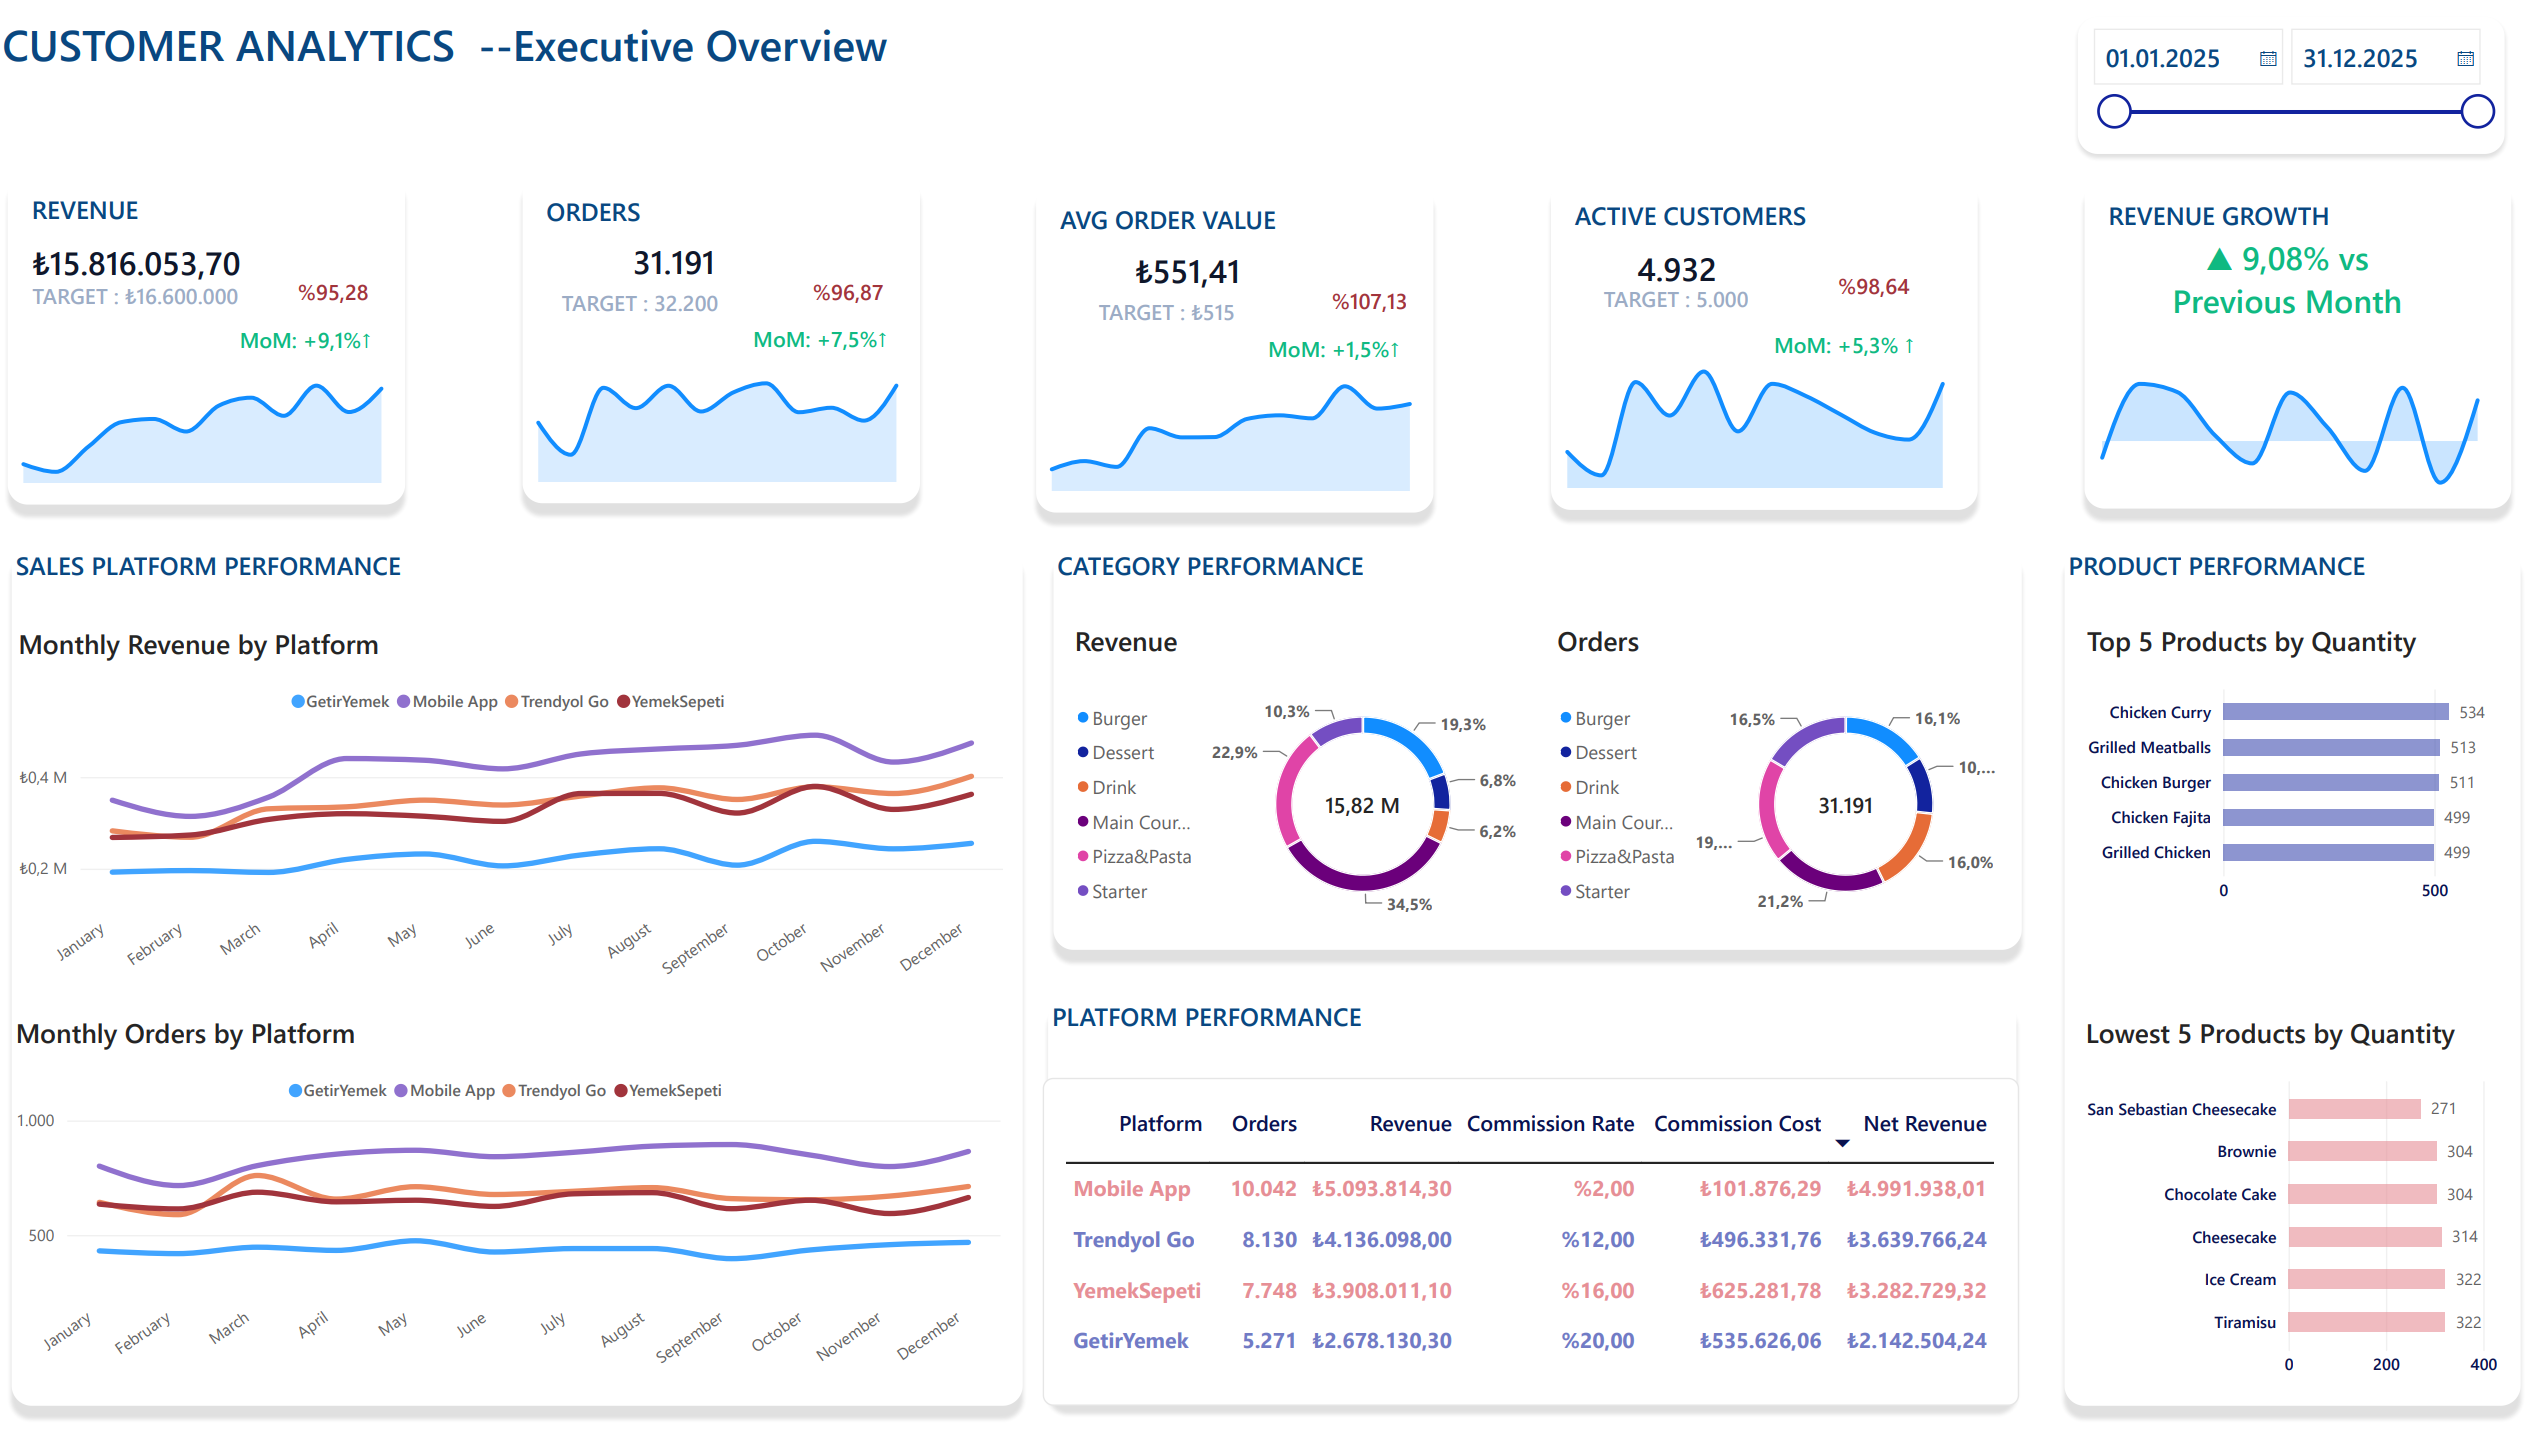

The dashboard page shown, as its layout file describes it:
{"tool":"powerbi","page":{"name":"Executvive","canvas":[1920,1080],"ordinal":0},"visuals":[{"type":"card","title":"REVENUE","fields":{"Values":["Date.sum_renevue"]},"box":[13.6,128.3,298.2,250],"z":0,"group":"g7"},{"type":"card","title":"ORDERS","fields":{"Values":["Date.sum_renevue"]},"box":[399.1,128.8,298.2,248.2],"z":0,"group":"g6"},{"type":"card","title":"ACTIVE CUSTOMERS","fields":{"Values":["Date.sum_renevue"]},"box":[1171.6,131.9,320,250],"z":0,"group":"g4"},{"type":"card","title":"REVENUE GROWTH","fields":{"Values":["Date.sum_renevue"]},"box":[1571.1,131.9,320,249.1],"z":0,"group":"g3"},{"type":"card","title":"AVG ORDER VALUE","fields":{"Values":["Date.sum_renevue"]},"box":[784.7,134,298.2,249.5],"z":0,"group":"g5"},{"type":"textbox","box":[16.9,408,757.7,646],"z":0,"group":"g2"},{"type":"textbox","box":[798,408,726,304],"z":0,"group":"g8"},{"type":"group","id":"g1","title":"Product","box":[1556,408,342,646],"z":0},{"type":"textbox","box":[1556,408,342,646],"z":0,"group":"g1"},{"type":"textbox","box":[794,746,726,304],"z":0,"group":"g9"},{"type":"stackedAreaChart","fields":{"Category":["Date.Date.Varyasyon.Tarih Hiyerarşisi.Ay"],"Y":["Query.Revenue MoM %"]},"box":[1556.8,240.3,336,141],"z":1000,"group":"g3"},{"type":"stackedAreaChart","fields":{"Category":["Date.Date.Varyasyon.Tarih Hiyerarşisi.Ay"],"Y":["Query.total order"]},"box":[385.5,253.1,320.1,123.9],"z":1000,"group":"g6"},{"type":"stackedAreaChart","fields":{"Category":["Date.Date.Varyasyon.Tarih Hiyerarşisi.Ay"],"Y":["Query.total active costumer"]},"box":[1157.5,253.2,334,128],"z":1000,"group":"g4"},{"type":"stackedAreaChart","fields":{"Category":["Date.Date.Varyasyon.Tarih Hiyerarşisi.Ay"],"Y":["Query.Total Revenue"]},"box":[0,253.4,320,124.8],"z":1000,"group":"g7"},{"type":"stackedAreaChart","fields":{"Category":["Date.Date.Varyasyon.Tarih Hiyerarşisi.Ay"],"Y":["Query.Average Order Value"]},"box":[771.1,258.9,320,124.5],"z":1000,"group":"g5"},{"type":"group","id":"g2","title":"Sales Platform","box":[4,408,772,648],"z":1000},{"type":"donutChart","title":"Revenue","fields":{"Category":["public category.category_name"],"Y":["public category.Category Revenue"]},"box":[798,452,364,260],"z":1000,"group":"g8"},{"type":"clusteredBarChart","title":"Top 5 Products by Quantity","fields":{"Category":["public product.product_name"],"Y":["CountNonNull(public sales_items.product_id)"]},"box":[1557,452,341,244],"z":1000,"group":"g1"},{"type":"card","title":"OVERALL PERFORMANCE","fields":{"Values":["Date.sum_renevue"]},"box":[13.6,128.3,192.9,142],"z":2000,"group":"g7"},{"type":"card","title":"OVERALL PERFORMANCE","fields":{"Values":["Query.total order"]},"box":[410.2,128.3,205.4,140.6],"z":2000,"group":"g6"},{"type":"card","title":"OVERALL PERFORMANCE","fields":{"Values":["Query.total costumer"]},"box":[1171.6,131.9,189.3,142],"z":2000,"group":"g4"},{"type":"group","id":"g3","title":"Growth","box":[1556.8,131.9,337.1,250.8],"z":2000},{"type":"card","title":"OVERALL PERFORMANCE","fields":{"Values":["Query.Average Order Value"]},"box":[795.8,133.5,205.3,141.2],"z":2000,"group":"g5"},{"type":"card","title":"OVERALL PERFORMANCE","fields":{"Values":["Date.Revenue Growth Label"]},"box":[1604.1,140.2,238.3,133.9],"z":2000,"group":"g3"},{"type":"donutChart","title":"Orders","fields":{"Category":["public category.category_name"],"Y":["public category.Category Total Orders"]},"box":[1160,452,364,260],"z":2000,"group":"g8"},{"type":"lineChart","title":"Monthly Orders by Platform","fields":{"Category":["Date.Month Name EN"],"Series":["public sales_platform.platform_name"],"Y":["Query.total order"]},"box":[4,746,770,310],"z":2000,"group":"g2"},{"type":"clusteredBarChart","title":"Lowest 5 Products by Quantity","fields":{"Category":["public product.product_name"],"Y":["CountNonNull(public sales_items.product_id)"]},"box":[1556,746,341,306],"z":2000,"group":"g1"},{"type":"group","id":"g4","title":"Costumer","box":[1157.5,131.9,333.8,250.8],"z":3000},{"type":"card","title":"TARGET","fields":{"Values":["Query.costumer Achievement"]},"box":[1363.4,189.8,100.7,54.7],"z":3000,"group":"g4"},{"type":"card","title":"TARGET","fields":{"Values":["Query.Revenue Target Achievement %"]},"box":[206.6,194.6,102.6,54.7],"z":3000,"group":"g7"},{"type":"card","title":"TARGET","fields":{"Values":["Query.Order Achievement"]},"box":[592.1,194.7,102.6,54.3],"z":3000,"group":"g6"},{"type":"card","title":"TARGET","fields":{"Values":["Query.avg value Achievement"]},"box":[984.4,200.5,102.6,54.6],"z":3000,"group":"g5"},{"type":"group","id":"g5","title":"Order Value","box":[771.1,133.5,320.8,249.2],"z":4000},{"type":"card","title":"TARGET","fields":{"Values":["Query.Order MoM Label"]},"box":[548.6,224.6,148.8,65.9],"z":4000,"group":"g6"},{"type":"card","title":"TARGET","fields":{"Values":["Query.Revenue MoM Label"]},"box":[163.1,224.7,148.8,66.4],"z":4000,"group":"g7"},{"type":"card","title":"TARGET","fields":{"Values":["Query.Costumer MoM Label"]},"box":[1318.2,228.3,146,66.4],"z":4000,"group":"g4"},{"type":"card","title":"TARGET","fields":{"Values":["Query.Avg Order MoM Label"]},"box":[934.2,230.2,148.8,66.2],"z":4000,"group":"g5"},{"type":"lineChart","title":"Monthly Revenue by Platform","fields":{"Category":["Date.Month Name EN"],"Series":["public sales_platform.platform_name"],"Y":["Query.Total Revenue"]},"box":[6,454,770,310],"z":4000,"group":"g2"},{"type":"group","id":"g6","title":"Order","box":[385.5,128.3,320,250],"z":5000},{"type":"card","title":"TARGET","fields":{"Values":["Query.Revenue Target Label"]},"box":[11.2,179.1,197.7,91.1],"z":5000,"group":"g7"},{"type":"card","title":"TARGET","fields":{"Values":["Query.total costumer"]},"box":[1168.8,181.3,194,91.1],"z":5000,"group":"g4"},{"type":"card","title":"TARGET","fields":{"Values":["Query.Order Target Label"]},"box":[388.2,182.2,198.3,94.8],"z":5000,"group":"g6"},{"type":"card","title":"TARGET","fields":{"Values":["Query.avg Order Target Label"]},"box":[784,188.9,198.3,95.3],"z":5000,"group":"g5"},{"type":"group","id":"g7","title":"Revenue","box":[0,128.3,320,250],"z":6000},{"type":"group","id":"g8","title":"Category Performance","box":[798,408,726,302],"z":7000},{"type":"slicer","title":"Date","fields":{"Values":["Date.Date"]},"box":[1566,12,320,103.3],"z":8000},{"type":"tableEx","fields":{"Values":["public sales_platform.platform_name","Query.total order","Query.Total Revenue","Sum(public sales_platform.commission_rate)","Query.commision_value","Query.net_revenue"]},"box":[790,808,732,246],"z":8002,"group":"g9"},{"type":"textbox","box":[10,10,802,54],"z":9000},{"type":"group","id":"g9","title":"Category Performance","box":[790,746,732,308],"z":10000}]}

Visuals, with their boxes in screenshot pixels (x1, y1, x2, y2), scaled from the page's 1920x1080 canvas onto the 2540x1440 screenshot:
"REVENUE" card: 18:171:412:504
"ORDERS" card: 528:172:922:503
"ACTIVE CUSTOMERS" card: 1550:176:1973:509
"REVENUE GROWTH" card: 2078:176:2502:508
"AVG ORDER VALUE" card: 1038:179:1433:511
textbox: 22:544:1025:1405
textbox: 1056:544:2016:949
"Product" group: 2058:544:2511:1405
textbox: 2058:544:2511:1405
textbox: 1050:995:2011:1400
stackedAreaChart - Date.Date.Varyasyon.Tarih Hiyerarşisi.Ay x Query.Revenue MoM %: 2060:320:2504:508
stackedAreaChart - Date.Date.Varyasyon.Tarih Hiyerarşisi.Ay x Query.total order: 510:337:933:503
stackedAreaChart - Date.Date.Varyasyon.Tarih Hiyerarşisi.Ay x Query.total active costumer: 1531:338:1973:508
stackedAreaChart - Date.Date.Varyasyon.Tarih Hiyerarşisi.Ay x Query.Total Revenue: 0:338:423:504
stackedAreaChart - Date.Date.Varyasyon.Tarih Hiyerarşisi.Ay x Query.Average Order Value: 1020:345:1443:511
"Sales Platform" group: 5:544:1027:1408
"Revenue" donutChart: 1056:603:1537:949
"Top 5 Products by Quantity" clusteredBarChart: 2060:603:2511:928
"OVERALL PERFORMANCE" card: 18:171:273:360
"OVERALL PERFORMANCE" card: 543:171:814:359
"OVERALL PERFORMANCE" card: 1550:176:1800:365
"Growth" group: 2060:176:2505:510
"OVERALL PERFORMANCE" card: 1053:178:1324:366
"OVERALL PERFORMANCE" card: 2122:187:2437:365
"Orders" donutChart: 1535:603:2016:949
"Monthly Orders by Platform" lineChart: 5:995:1024:1408
"Lowest 5 Products by Quantity" clusteredBarChart: 2058:995:2510:1403
"Costumer" group: 1531:176:1973:510
"TARGET" card: 1804:253:1937:326
"TARGET" card: 273:259:409:332
"TARGET" card: 783:260:919:332
"TARGET" card: 1302:267:1438:340
"Order Value" group: 1020:178:1444:510
"TARGET" card: 726:299:923:387
"TARGET" card: 216:300:413:388
"TARGET" card: 1744:304:1937:393
"TARGET" card: 1236:307:1433:395
"Monthly Revenue by Platform" lineChart: 8:605:1027:1019
"Order" group: 510:171:933:504
"TARGET" card: 15:239:276:360
"TARGET" card: 1546:242:1803:363
"TARGET" card: 514:243:776:369
"TARGET" card: 1037:252:1300:379
"Revenue" group: 0:171:423:504
"Category Performance" group: 1056:544:2016:947
"Date" slicer: 2072:16:2495:154
tableEx - public sales_platform.platform_name x Query.total order: 1045:1077:2013:1405
textbox: 13:13:1074:85
"Category Performance" group: 1045:995:2013:1405
